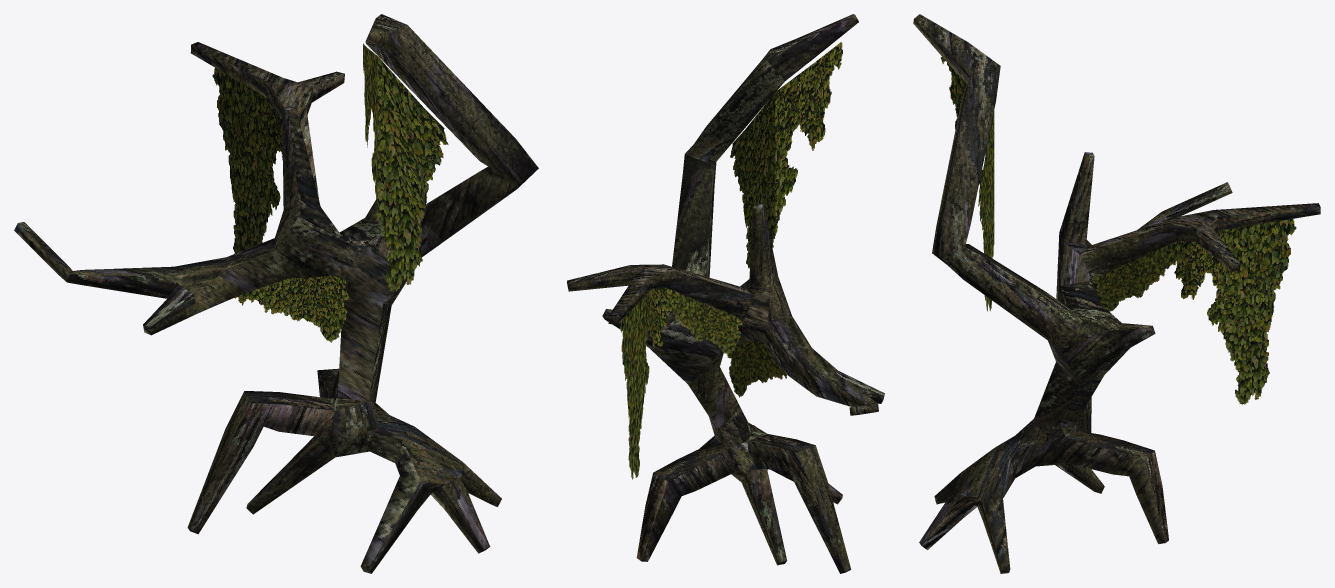
Rendered from tree_3.glb.
3 renders of one model, left to right at view 1: azimuth 30°, elevation 25°; view 2: azimuth 150°, elevation 25°; view 3: azimuth 270°, elevation 25°, orthographic. The views are drawn at different scales.
Visible parts, largest first — view 1: tree_3; view 2: tree_3; view 3: tree_3.
Part boxes in pixels (<box>): tree_3: <box>14,14,538,573</box>; tree_3: <box>567,14,884,573</box>; tree_3: <box>913,14,1320,573</box>.
Bounding box in the file's own units: 5.74 × 8.46 × 6.43.
Materials: 3 (3 with a texture image).
